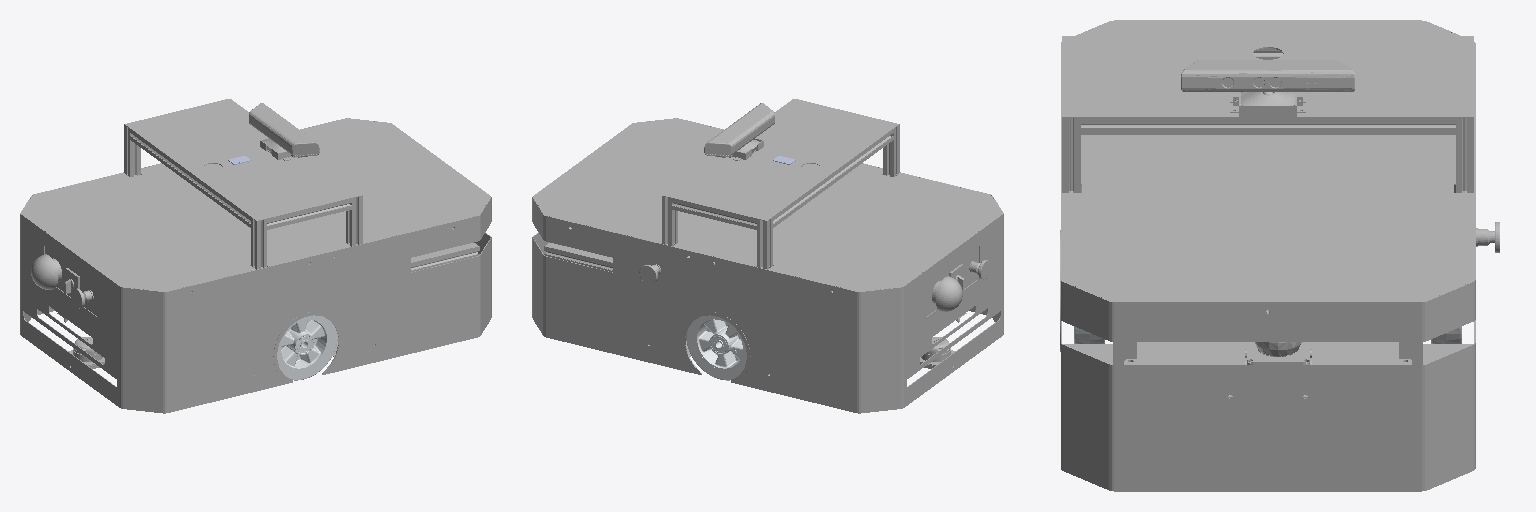
--- Render facts (derived) ---
3 views of the same robot in one strip: view 1: azimuth 30°, elevation 25°; view 2: azimuth 150°, elevation 25°; view 3: azimuth 270°, elevation 25° (orthographic).
Robot: agv — 15 links, 14 joints (10 continuous, 4 fixed); root link base_link; default pose: all joints at 0.
Visible links, largest first — view 1: base_link, right_drive_wheel, kinect_camera; view 2: base_link, left_drive_wheel, kinect_camera; view 3: base_link, kinect_camera, front_laser.
Link boxes in pixels (box(x1,y1,x2,y2)): base_link: box(20, 99, 491, 413); right_drive_wheel: box(277, 315, 337, 380); kinect_camera: box(249, 103, 319, 156); base_link: box(532, 99, 1003, 413); left_drive_wheel: box(686, 315, 746, 380); kinect_camera: box(704, 103, 774, 156); base_link: box(1060, 20, 1499, 491); kinect_camera: box(1181, 60, 1354, 105); front_laser: box(1245, 342, 1311, 364).
Size in the robot's own frame: 1.13 by 0.7044 by 0.5522 metres.
Meshes: 15 distinct files referenced, 15 mesh visuals loaded (15 binary STL).

The robot description file, URDF, robot "agv":
<?xml version="1.0" encoding="utf-8"?>
<!-- This URDF was automatically created by SolidWorks to URDF Exporter! Originally created by Stephen Brawner ([email redacted]) 
     Commit Version: 1.6.0-1-g15f4949  Build Version: 1.6.7594.29634
     For more information, please see http://wiki.ros.org/sw_urdf_exporter -->
<robot
  name="agv">
  <link
    name="base_link">
    <inertial>
      <origin
        xyz="0.0505002966767807 0.00340268943530442 0.186954439412333"
        rpy="0 0 0" />
      <mass
        value="17.5299138942342" />
      <inertia
        ixx="0.319961382460128"
        ixy="-0.000296205426794656"
        ixz="-0.00412387234214882"
        iyy="0.338232731422203"
        iyz="0.000136264080457694"
        izz="0.601188341952179" />
    </inertial>
    <visual>
      <origin
        xyz="0 0 0"
        rpy="0 0 0" />
      <geometry>
        <mesh
          filename="package://agv/meshes/base_link.STL" />
      </geometry>
      <material
        name="">
        <color
          rgba="0.752941176470588 0.752941176470588 0.752941176470588 1" />
      </material>
    </visual>
    <collision>
      <origin
        xyz="0 0 0"
        rpy="0 0 0" />
      <geometry>
        <mesh
          filename="package://agv/meshes/base_link.STL" />
      </geometry>
    </collision>
  </link>
  <link
    name="rf_castor">
    <inertial>
      <origin
        xyz="-0.00517721936015575 0.00420937017009781 0.0380494601148337"
        rpy="0 0 0" />
      <mass
        value="0.308413228189857" />
      <inertia
        ixx="0.000176863120144316"
        ixy="-6.36407841398768E-13"
        ixz="6.18013673756808E-06"
        iyy="0.00021986835333067"
        iyz="1.64411145757434E-12"
        izz="0.000225039466115735" />
    </inertial>
    <visual>
      <origin
        xyz="0 0 0"
        rpy="0 0 0" />
      <geometry>
        <mesh
          filename="package://agv/meshes/rf_castor.STL" />
      </geometry>
      <material
        name="">
        <color
          rgba="0.752941176470588 0.752941176470588 0.752941176470588 1" />
      </material>
    </visual>
    <collision>
      <origin
        xyz="0 0 0"
        rpy="0 0 0" />
      <geometry>
        <mesh
          filename="package://agv/meshes/rf_castor.STL" />
      </geometry>
    </collision>
  </link>
  <joint
    name="rf_castor_joint"
    type="continuous">
    <origin
      xyz="0.4437 -0.19935 0.0745"
      rpy="0 0 0" />
    <parent
      link="base_link" />
    <child
      link="rf_castor" />
    <axis
      xyz="0 0 1" />
  </joint>
  <link
    name="rf_wheel">
    <inertial>
      <origin
        xyz="-1.11022302462516E-16 0.00436655577999198 6.66133814775094E-16"
        rpy="0 0 0" />
      <mass
        value="0.626468760963498" />
      <inertia
        ixx="0.000457310851286782"
        ixy="1.15974857117078E-18"
        ixz="2.44835121557937E-19"
        iyy="0.000807704367369126"
        iyz="-1.04383155488073E-20"
        izz="0.000457310851286781" />
    </inertial>
    <visual>
      <origin
        xyz="0 0 0"
        rpy="0 0 0" />
      <geometry>
        <mesh
          filename="package://agv/meshes/rf_wheel.STL" />
      </geometry>
      <material
        name="">
        <color
          rgba="0.898039215686275 0.917647058823529 0.929411764705882 1" />
      </material>
    </visual>
    <collision>
      <origin
        xyz="0 0 0"
        rpy="0 0 0" />
      <geometry>
        <mesh
          filename="package://agv/meshes/rf_wheel.STL" />
      </geometry>
      <surface>
        <friction>
          <ode>
            <mu>0.1</mu>
            <mu2>0.1</mu2>
          </ode>
        </friction>
      </surface>
    </collision>
  </link>
  <joint
    name="rf_wheel_joint"
    type="continuous">
    <origin
      xyz="0.057574 0 -0.024493"
      rpy="0 0 0" />
    <parent
      link="rf_castor" />
    <child
      link="rf_wheel" />
    <axis
      xyz="0 1 0" />
  </joint>
  <link
    name="lf_castor">
    <inertial>
      <origin
        xyz="-0.00517721936966248 0.00420937017066605 0.0380494601034228"
        rpy="0 0 0" />
      <mass
        value="0.308413228261502" />
      <inertia
        ixx="0.000176863120188543"
        ixy="-6.34832873491282E-13"
        ixz="6.18013671363683E-06"
        iyy="0.000219868353385141"
        iyz="1.6494380922632E-12"
        izz="0.000225039466125424" />
    </inertial>
    <visual>
      <origin
        xyz="0 0 0"
        rpy="0 0 0" />
      <geometry>
        <mesh
          filename="package://agv/meshes/lf_castor.STL" />
      </geometry>
      <material
        name="">
        <color
          rgba="0.752941176470588 0.752941176470588 0.752941176470588 1" />
      </material>
    </visual>
    <collision>
      <origin
        xyz="0 0 0"
        rpy="0 0 0" />
      <geometry>
        <mesh
          filename="package://agv/meshes/lf_castor.STL" />
      </geometry>
    </collision>
  </link>
  <joint
    name="lf_castor_joint"
    type="continuous">
    <origin
      xyz="0.4437 0.19062 0.0745"
      rpy="0 0 0" />
    <parent
      link="base_link" />
    <child
      link="lf_castor" />
    <axis
      xyz="0 0 1" />
  </joint>
  <link
    name="lf_wheel">
    <inertial>
      <origin
        xyz="-1.11022302462516E-16 0.00436655577999231 6.66133814775094E-16"
        rpy="0 0 0" />
      <mass
        value="0.626468760963498" />
      <inertia
        ixx="0.000457310851286782"
        ixy="3.7317515145857E-18"
        ixz="3.16889790741702E-19"
        iyy="0.000807704367369126"
        iyz="2.85896953074932E-22"
        izz="0.000457310851286781" />
    </inertial>
    <visual>
      <origin
        xyz="0 0 0"
        rpy="0 0 0" />
      <geometry>
        <mesh
          filename="package://agv/meshes/lf_wheel.STL" />
      </geometry>
      <material
        name="">
        <color
          rgba="0.898039215686275 0.917647058823529 0.929411764705882 1" />
      </material>
    </visual>
    <collision>
      <origin
        xyz="0 0 0"
        rpy="0 0 0" />
      <geometry>
        <mesh
          filename="package://agv/meshes/lf_wheel.STL" />
      </geometry>
       <surface>
        <friction>
          <ode>
            <mu>0.1</mu>
            <mu2>0.1</mu2>
          </ode>
        </friction>
      </surface>
    </collision>
  </link>
  <joint
    name="lf_wheel_joint"
    type="continuous">
    <origin
      xyz="0.057574 0 -0.024493"
      rpy="0 0 0" />
    <parent
      link="lf_castor" />
    <child
      link="lf_wheel" />
    <axis
      xyz="0 1 0" />
  </joint>
  <link
    name="rb_castor">
    <inertial>
      <origin
        xyz="0.00102047268802752 -0.000157185609563959 0.0843331685785828"
        rpy="0 0 0" />
      <mass
        value="0.308413228404139" />
      <inertia
        ixx="0.000176863120342781"
        ixy="-6.35772674730175E-13"
        ixz="6.18013667473174E-06"
        iyy="0.000219868353548994"
        iyz="1.64625950950398E-12"
        izz="0.000225039466135757" />
    </inertial>
    <visual>
      <origin
        xyz="0 0 0"
        rpy="0 0 0" />
      <geometry>
        <mesh
          filename="package://agv/meshes/rb_castor.STL" />
      </geometry>
      <material
        name="">
        <color
          rgba="0.752941176470588 0.752941176470588 0.752941176470588 1" />
      </material>
    </visual>
    <collision>
      <origin
        xyz="0 0 0"
        rpy="0 0 0" />
      <geometry>
        <mesh
          filename="package://agv/meshes/rb_castor.STL" />
      </geometry>
    </collision>
  </link>
  <joint
    name="rb_castor_joint"
    type="continuous">
    <origin
      xyz="-0.35505 -0.19499 0.028216"
      rpy="0 0 0" />
    <parent
      link="base_link" />
    <child
      link="rb_castor" />
    <axis
      xyz="0 0 1" />
  </joint>
  <link
    name="rb_wheel">
    <inertial>
      <origin
        xyz="5.55111512312578E-17 -3.60822483003176E-16 6.86950496486816E-16"
        rpy="0 0 0" />
      <mass
        value="0.626468760963497" />
      <inertia
        ixx="0.000457310851286781"
        ixy="2.59697111503507E-18"
        ixz="-7.58653868681682E-20"
        iyy="0.000807704367369125"
        iyz="1.22078299594063E-18"
        izz="0.00045731085128678" />
    </inertial>
    <visual>
      <origin
        xyz="0 0 0"
        rpy="0 0 0" />
      <geometry>
        <mesh
          filename="package://agv/meshes/rb_wheel.STL" />
      </geometry>
      <material
        name="">
        <color
          rgba="0.898039215686275 0.917647058823529 0.929411764705882 1" />
      </material>
    </visual>
    <collision>
      <origin
        xyz="0 0 0"
        rpy="0 0 0" />
      <geometry>
        <mesh
          filename="package://agv/meshes/rb_wheel.STL" />
      </geometry>
      <surface>
        <friction>
          <ode>
            <mu>0.1</mu>
            <mu2>0.1</mu2>
          </ode>
        </friction>
      </surface>
    </collision>
  </link>
  <joint
    name="rb_wheel_joint"
    type="continuous">
    <origin
      xyz="0.063772 0 0.02179"
      rpy="0 0 0" />
    <parent
      link="rb_castor" />
    <child
      link="rb_wheel" />
    <axis
      xyz="0 1 0" />
  </joint>
  <link
    name="lb_castor">
    <inertial>
      <origin
        xyz="-0.00517721936966276 0.00420937017066594 0.0380494601034228"
        rpy="0 0 0" />
      <mass
        value="0.308413228261502" />
      <inertia
        ixx="0.000176863120188544"
        ixy="-6.34833059557406E-13"
        ixz="6.18013671363662E-06"
        iyy="0.000219868353385142"
        iyz="1.64943821697838E-12"
        izz="0.000225039466125424" />
    </inertial>
    <visual>
      <origin
        xyz="0 0 0"
        rpy="0 0 0" />
      <geometry>
        <mesh
          filename="package://agv/meshes/lb_castor.STL" />
      </geometry>
      <material
        name="">
        <color
          rgba="0.752941176470588 0.752941176470588 0.752941176470588 1" />
      </material>
    </visual>
    <collision>
      <origin
        xyz="0 0 0"
        rpy="0 0 0" />
      <geometry>
        <mesh
          filename="package://agv/meshes/lb_castor.STL" />
      </geometry>
    </collision>
  </link>
  <joint
    name="lb_castor_joint"
    type="continuous">
    <origin
      xyz="-0.34885 0.19062 0.0745"
      rpy="0 0 0" />
    <parent
      link="base_link" />
    <child
      link="lb_castor" />
    <axis
      xyz="0 0 1" />
  </joint>
  <link
    name="lb_wheel">
    <inertial>
      <origin
        xyz="4.44089209850063E-16 0.00436655577999259 -5.68989300120393E-16"
        rpy="0 0 0" />
      <mass
        value="0.626468760963497" />
      <inertia
        ixx="0.000457310851286781"
        ixy="4.70677235448705E-18"
        ixz="4.20993572758698E-19"
        iyy="0.000807704367369124"
        iyz="-2.4396369467829E-18"
        izz="0.00045731085128678" />
    </inertial>
    <visual>
      <origin
        xyz="0 0 0"
        rpy="0 0 0" />
      <geometry>
        <mesh
          filename="package://agv/meshes/lb_wheel.STL" />
      </geometry>
      <material
        name="">
        <color
          rgba="0.898039215686275 0.917647058823529 0.929411764705882 1" />
      </material>
    </visual>
    <collision>
      <origin
        xyz="0 0 0"
        rpy="0 0 0" />
      <geometry>
        <mesh
          filename="package://agv/meshes/lb_wheel.STL" />
      </geometry>
      <surface>
        <friction>
          <ode>
            <mu>0.1</mu>
            <mu2>0.1</mu2>
          </ode>
        </friction>
      </surface>
    </collision>
  </link>
  <joint
    name="lb_wheel_joint"
    type="continuous">
    <origin
      xyz="0.057574 0 -0.024493"
      rpy="0 0 0" />
    <parent
      link="lb_castor" />
    <child
      link="lb_wheel" />
    <axis
      xyz="0 1 0" />
  </joint>
  <link
    name="right_drive_wheel">
    <inertial>
      <origin
        xyz="-3.54048652770273E-06 -0.031496291820899 -3.5696755096154E-06"
        rpy="0 0 0" />
      <mass
        value="2.78395683195572" />
      <inertia
        ixx="0.00913856636219792"
        ixy="1.805615946359E-07"
        ixz="-1.4776702564025E-07"
        iyy="0.0171771783201694"
        iyz="1.98685876624374E-07"
        izz="0.00913995386509266" />
    </inertial>
    <visual>
      <origin
        xyz="0 0 0"
        rpy="0 0 0" />
      <geometry>
        <mesh
          filename="package://agv/meshes/right_drive_wheel.STL" />
      </geometry>
      <material
        name="">
        <color
          rgba="0.898039215686275 0.917647058823529 0.929411764705882 1" />
      </material>
    </visual>
    <collision>
      <origin
        xyz="0 0 0"
        rpy="0 0 0" />
      <geometry>
        <mesh
          filename="package://agv/meshes/right_drive_wheel.STL" />
      </geometry>
      <surface>
        <friction>
          <ode>
            <mu>0.1</mu>
            <mu2>0.1</mu2>
          </ode>
        </friction>
      </surface>
    </collision>
  </link>
  <joint
    name="right_drive_wheel_joint"
    type="continuous">
    <origin
      xyz="0 -0.25399 0.1"
      rpy="0 0 0" />
    <parent
      link="base_link" />
    <child
      link="right_drive_wheel" />
    <axis
      xyz="0 1 0" />
  </joint>
  <link
    name="left_drive_wheel">
    <inertial>
      <origin
        xyz="-3.54048651584484E-06 0.0315037081310673 -3.56963982006686E-06"
        rpy="0 0 0" />
      <mass
        value="2.78395684403156" />
      <inertia
        ixx="0.00913856636356478"
        ixy="1.80561594635264E-07"
        ixz="-1.47767025641837E-07"
        iyy="0.0171771783219602"
        iyz="1.98687368947795E-07"
        izz="0.00913995386645953" />
    </inertial>
    <visual>
      <origin
        xyz="0 0 0"
        rpy="0 0 0" />
      <geometry>
        <mesh
          filename="package://agv/meshes/left_drive_wheel.STL" />
      </geometry>
      <material
        name="">
        <color
          rgba="0.898039215686275 0.917647058823529 0.929411764705882 1" />
      </material>
    </visual>
    <collision>
      <origin
        xyz="0 0 0"
        rpy="0 0 0" />
      <geometry>
        <mesh
          filename="package://agv/meshes/left_drive_wheel.STL" />
      </geometry>
      <surface>
        <friction>
          <ode>
            <mu>0.1</mu>
            <mu2>0.1</mu2>
          </ode>
        </friction>
      </surface>
    </collision>
  </link>
  <joint
    name="left_drive_wheel_joint"
    type="continuous">
    <origin
      xyz="0 0.25401 0.1"
      rpy="0 0 0" />
    <parent
      link="base_link" />
    <child
      link="left_drive_wheel" />
    <axis
      xyz="0 1 0" />
  </joint>
  <link
    name="front_laser">
    <inertial>
      <origin
        xyz="-0.0324139612087624 0.00199136296597092 -0.291979110525302"
        rpy="0 0 0" />
      <mass
        value="0.263290310369682" />
      <inertia
        ixx="0"
        ixy="0"
        ixz="0"
        iyy="0"
        iyz="0"
        izz="0" />
    </inertial>
    <visual>
      <origin
        xyz="0 0 0"
        rpy="0 0 0" />
      <geometry>
        <mesh
          filename="package://agv/meshes/front_laser.STL" />
      </geometry>
      <material
        name="">
        <color
          rgba="0.752941176470588 0.752941176470588 0.752941176470588 1" />
      </material>
    </visual>
    <collision>
      <origin
        xyz="0 0 0"
        rpy="0 0 0" />
      <geometry>
        <mesh
          filename="package://agv/meshes/front_laser.STL" />
      </geometry>
    </collision>
  </link>
  <joint
    name="front_laser_joint"
    type="fixed">
    <origin
      xyz="0.51272 0.016293 0.24738"
      rpy="0 0 0" />
    <parent
      link="base_link" />
    <child
      link="front_laser" />
    <axis
      xyz="0 0 0" />
  </joint>
  <link
    name="back_laser">
    <inertial>
      <origin
        xyz="0.0032065624406587 -9.51388205930283E-05 -0.0208001444882332"
        rpy="0 0 0" />
      <mass
        value="0.0423507164973708" />
      <inertia
        ixx="1.66292142022261E-05"
        ixy="1.6955563728476E-07"
        ixz="1.20779262414247E-07"
        iyy="1.40868095586287E-05"
        iyz="-1.25757841294358E-08"
        izz="2.92430350907846E-05" />
    </inertial>
    <visual>
      <origin
        xyz="0 0 0.03"
        rpy="0 0 0" />
      <geometry>
        <mesh
          filename="package://agv/meshes/back_laser.STL" />
      </geometry>
      <material
        name="">
        <color
          rgba="0.752941176470588 0.752941176470588 0.752941176470588 1" />
      </material>
    </visual>
    <collision>
      <origin
        xyz="0 0 0"
        rpy="0 0 0" />
      <geometry>
        <mesh
          filename="package://agv/meshes/back_laser.STL" />
      </geometry>
    </collision>
  </link>
  <joint
    name="back_laser_joint"
    type="fixed">
    <origin
      xyz="-0.442 1.4819E-05 0.075"
      rpy="-3.1416 0 -3.1416" />
    <parent
      link="base_link" />
    <child
      link="back_laser" />
    <axis
      xyz="0 0 0" />
  </joint>
  <link
    name="kinect_camera">
    <inertial>
      <origin
        xyz="0.0352733424750911 4.52827284281263E-05 -0.00855275224788477"
        rpy="0 0 0" />
      <mass
        value="0.658662598935648" />
      <inertia
        ixx="0.00298640086718296"
        ixy="-9.35635152177406E-07"
        ixz="-5.71424475805588E-06"
        iyy="0.000269653471825197"
        iyz="-4.36289562296306E-08"
        izz="0.00311136457626082" />
    </inertial>
    <visual>
      <origin
        xyz="0 0 0"
        rpy="0 0 0" />
      <geometry>
        <mesh
          filename="package://agv/meshes/kinect_camera.STL" />
      </geometry>
      <material
        name="">
        <color
          rgba="0.752941176470588 0.752941176470588 0.752941176470588 1" />
      </material>
    </visual>
    <collision>
      <origin
        xyz="0 0 0"
        rpy="0 0 0" />
      <geometry>
        <mesh
          filename="package://agv/meshes/kinect_camera.STL" />
      </geometry>
    </collision>
  </link>
  <joint
    name="kinect_camera_joint"
    type="fixed">
    <origin
      xyz="0.079826 0.00011741 0.534"
      rpy="0 0 0" />
    <parent
      link="base_link" />
    <child
      link="kinect_camera" />
    <axis
      xyz="0 0 0" />
    <limit
      lower="0"
      upper="0"
      effort="0"
      velocity="0" />
  </joint>
  <link
    name="imu_sensor">
    <inertial>
      <origin
        xyz="0.0244871413074496 -0.0159200000000003 0.00100000000000006"
        rpy="0 0 0" />
      <mass
        value="0.00309627738311325" />
      <inertia
        ixx="2.60213018270652E-07"
        ixy="5.07468567346599E-21"
        ixz="-3.46277889032628E-25"
        iyy="6.21076876297214E-07"
        iyz="9.01257585639137E-22"
        izz="8.7922570964579E-07" />
    </inertial>
    <visual>
      <origin
        xyz="0 0 0"
        rpy="0 0 0" />
      <geometry>
        <mesh
          filename="package://agv/meshes/imu_sensor.STL" />
      </geometry>
      <material
        name="">
        <color
          rgba="0.792156862745098 0.819607843137255 0.929411764705882 1" />
      </material>
    </visual>
    <collision>
      <origin
        xyz="0 0 0"
        rpy="0 0 0" />
      <geometry>
        <mesh
          filename="package://agv/meshes/imu_sensor.STL" />
      </geometry>
    </collision>
  </link>
  <joint
    name="imu_sensor_joint"
    type="fixed">
    <origin
      xyz="-0.03095 0.01592 0.48038"
      rpy="0 0 0" />
    <parent
      link="base_link" />
    <child
      link="imu_sensor" />
    <axis
      xyz="0 0 0" />
  </joint>

  <!-- Noise parameters based on published spec for Hokuyo laser
       achieving "+-30mm" accuracy at range < 10m.  A mean of 0.0m and
       stddev of 0.01m will put 99.7% of samples within 0.03m of the true
       reading. -->

  <gazebo reference="front_laser">
    <sensor type="ray" name="head_hokuyo_sensor">
      <pose>0 0 0 0 0 0</pose>
      <visualize>true</visualize>
      <update_rate>10</update_rate>
      <ray>
        <scan>
          <horizontal>
            <samples>720</samples>
            <resolution>1</resolution>
            <min_angle>-3.14</min_angle>
            <max_angle>3.14</max_angle>
          </horizontal>
        </scan>
        <range>
          <min>0.10</min>
          <max>30.0</max>
          <resolution>0.01</resolution>
        </range>
        <noise>
          <type>gaussian</type>
          <mean>0.0</mean>
          <stddev>0.01</stddev>
        </noise>
      </ray>
      <plugin name="gazebo_ros_head_hokuyo_controller" filename="libgazebo_ros_laser.so">
        <topicName>/front_laser_scan</topicName>
        <frameName>front_laser</frameName>
      </plugin>
    </sensor>
  </gazebo>

   <gazebo reference="back_laser">
    <sensor type="ray" name="head_hokuyo_sensor">
      <pose>0 0 0 0 0 0</pose>
      <visualize>true</visualize>
      <update_rate>10</update_rate>
      <ray>
        <scan>
          <horizontal>
            <samples>720</samples>
            <resolution>1</resolution>
            <min_angle>-1.570796</min_angle>
            <max_angle>1.570796</max_angle>
          </horizontal>
        </scan>
        <range>
          <min>0.10</min>
          <max>30.0</max>
          <resolution>0.01</resolution>
        </range>
        <noise>
          <type>gaussian</type>
          <mean>0.0</mean>
          <stddev>0.01</stddev>
        </noise>
      </ray>
      <plugin name="gazebo_ros_head_hokuyo_controller" filename="libgazebo_ros_laser.so">
        <topicName>/back_laser_scan</topicName>
        <frameName>back_laser</frameName>
      </plugin>
    </sensor>
  </gazebo>

    <gazebo>
      <plugin name="differential_drive_controller" filename="libgazebo_ros_diff_drive.so">
        <!-- Plugin update rate in Hz -->
        <updateRate>20</updateRate>
        <!-- Name of left joint, defaults to `left_joint` -->
        <leftJoint>left_drive_wheel_joint</leftJoint>
        <!-- Name of right joint, defaults to `right_joint` -->
        <rightJoint>right_drive_wheel_joint</rightJoint>
        <!-- The distance from the center of one wheel to the other, in meters, defaults to 0.34 m -->
        <wheelSeparation>0.389</wheelSeparation>
        <!-- Diameter of the wheels, in meters, defaults to 0.15 m -->
        <wheelDiameter>0.2</wheelDiameter>
        <!-- Wheel acceleration, in rad/s^2, defaults to 0.0 rad/s^2 -->
        <wheelAcceleration>1.0</wheelAcceleration>
        <!-- Maximum torque which the wheels can produce, in Nm, defaults to 5 Nm -->
        <wheelTorque>20</wheelTorque>
        <!-- Topic to receive geometry_msgs/Twist message commands, defaults to `cmd_vel` -->
        <commandTopic>cmd_vel</commandTopic>
        <!-- Topic to publish nav_msgs/Odometry messages, defaults to `odom` -->
        <odometryTopic>odom</odometryTopic>
        <!-- Odometry frame, defaults to `odom` -->
        <odometryFrame>odom</odometryFrame>
        <!-- Robot frame to calculate odometry from, defaults to `base_footprint` -->
        <robotBaseFrame>base_footprint</robotBaseFrame>
        <!-- Odometry source, 0 for ENCODER, 1 for WORLD, defaults to WORLD -->
        <odometrySource>1</odometrySource>
        <!-- Set to true to publish transforms for the wheel links, defaults to false -->
        <publishWheelTF>true</publishWheelTF>
        <!-- Set to true to publish transforms for the odometry, defaults to true -->
        <publishOdom>true</publishOdom>
        <!-- Set to true to publish sensor_msgs/JointState on /joint_states for the wheel joints, defaults to false -->
        <publishWheelJointState>true</publishWheelJointState>
        <!-- Set to true to swap right and left wheels, defaults to true -->
        <legacyMode>false</legacyMode>
      </plugin>
    </gazebo>

    <!-- Keep this zero, update_rate in the parent <sensor> tag
      will control the frame rate. -->
 <gazebo reference="kinect_camera">
    <sensor type="camera" name="camera1">
      <update_rate>30.0</update_rate>
      <camera name="head">
        <horizontal_fov>1.3962634</horizontal_fov>
        <image>
          <width>800</width>
          <height>800</height>
          <format>R8G8B8</format>
        </image>
        <clip>
          <near>0.02</near>
          <far>300</far>
        </clip>
        <noise>
          <type>gaussian</type>
          <!-- Noise is sampled independently per pixel on each frame.
               That pixel's noise value is added to each of its color
               channels, which at that point lie in the range [0,1]. -->
          <mean>0.0</mean>
          <stddev>0.007</stddev>
        </noise>
      </camera>
      <plugin name="camera_controller" filename="libgazebo_ros_camera.so">
        <alwaysOn>true</alwaysOn>
        <updateRate>0.0</updateRate>
        <cameraName>/camera1</cameraName>
        <imageTopicName>image_raw</imageTopicName>
        <cameraInfoTopicName>camera_info</cameraInfoTopicName>
        <frameName>kinect_camera</frameName>
        <hackBaseline>0.07</hackBaseline>
        <distortionK1>0.0</distortionK1>
        <distortionK2>0.0</distortionK2>
        <distortionK3>0.0</distortionK3>
        <distortionT1>0.0</distortionT1>
        <distortionT2>0.0</distortionT2>
      </plugin>
    </sensor>
  </gazebo>

  <gazebo reference="imu_sensor">
    <material>Gazebo/Green</material>
  </gazebo>

  <gazebo reference="kinect_camera">
    <material>Gazebo/Black</material>
  </gazebo>

  <gazebo reference="back_laser">
    <material>Gazebo/Black</material>
  </gazebo>

  <gazebo reference="front_laser">
    <material>Gazebo/Black</material>
  </gazebo>

  <gazebo reference="right_drive_wheel">
    <material>Gazebo/Yellow</material>
  </gazebo>

  <gazebo reference="left_drive_wheel">
    <material>Gazebo/Yellow</material>
  </gazebo>

  <gazebo reference="rb_castor">
    <material>Gazebo/Blue</material>
  </gazebo>

  <gazebo reference="lb_castor">
    <material>Gazebo/Blue</material>
  </gazebo>

  <gazebo reference="rf_castor">
    <material>Gazebo/Blue</material>
  </gazebo>

  <gazebo reference="lf_castor">
    <material>Gazebo/Blue</material>
  </gazebo>

  <gazebo reference="rb_wheel">
    <material>Gazebo/Yellow</material>
  </gazebo>

  <gazebo reference="lb_wheel">
    <material>Gazebo/Yellow</material>
  </gazebo>

  <gazebo reference="rf_wheel">
    <material>Gazebo/Yellow</material>
  </gazebo>

  <gazebo reference="lf_wheel">
    <material>Gazebo/Yellow</material>
  </gazebo>

  <gazebo reference="base_link">
    <material>Gazebo/Grey</material>
  </gazebo>

</robot>
